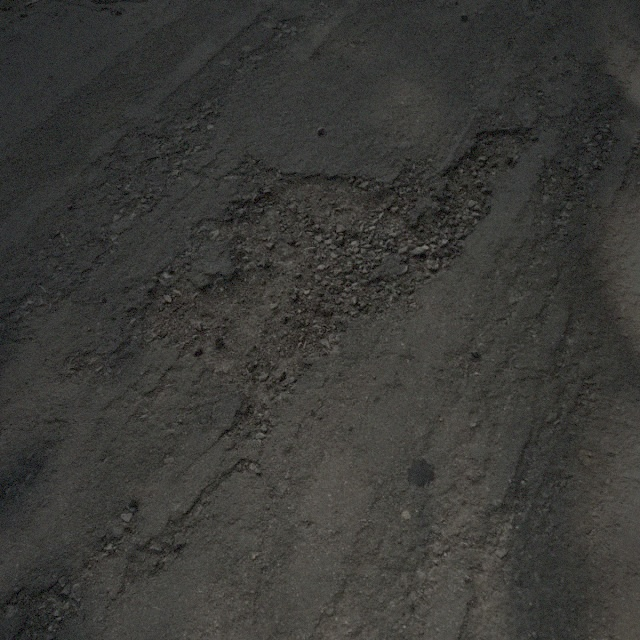pothole: (127, 148, 453, 422), (436, 124, 537, 270)
